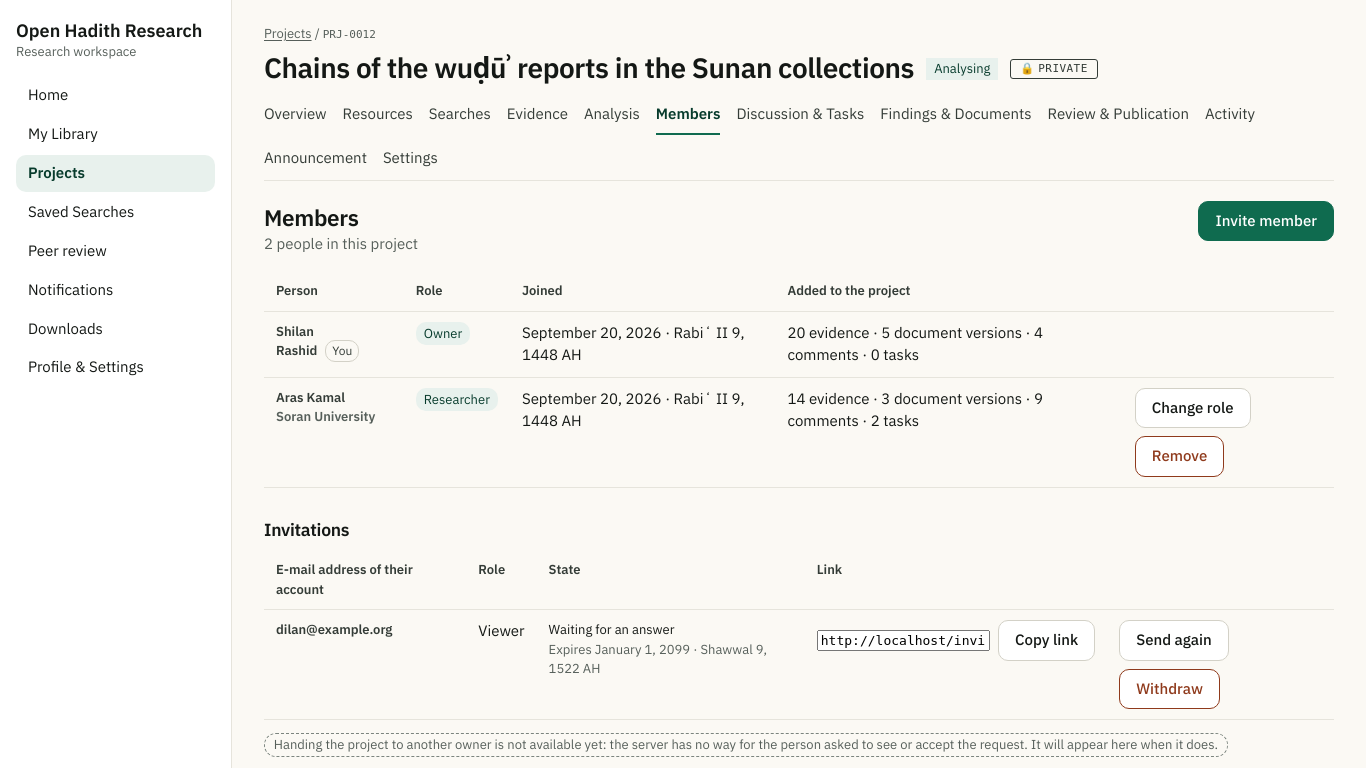
Members: changing and removing › reports a role the server answered 200 for but did not keep
This screenshot has width=1366, height=768.
Step 1. Click the button with aria-label "Change the role of Aras Kamal" → point(1193, 408), box [1135, 388, 1251, 428]
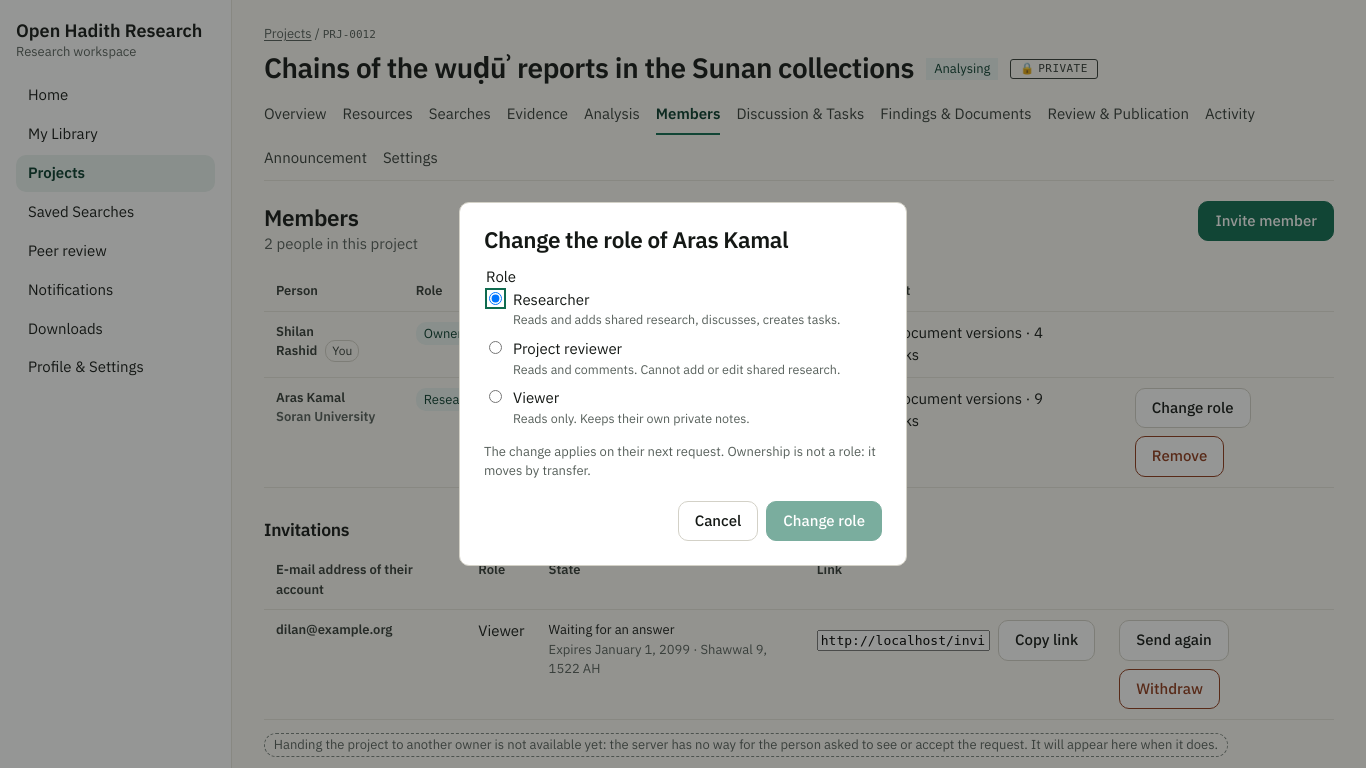
Step 2. Click the radio button labelled "Viewer Reads only. Keeps their own private notes." → point(496, 397), box [489, 390, 502, 403]
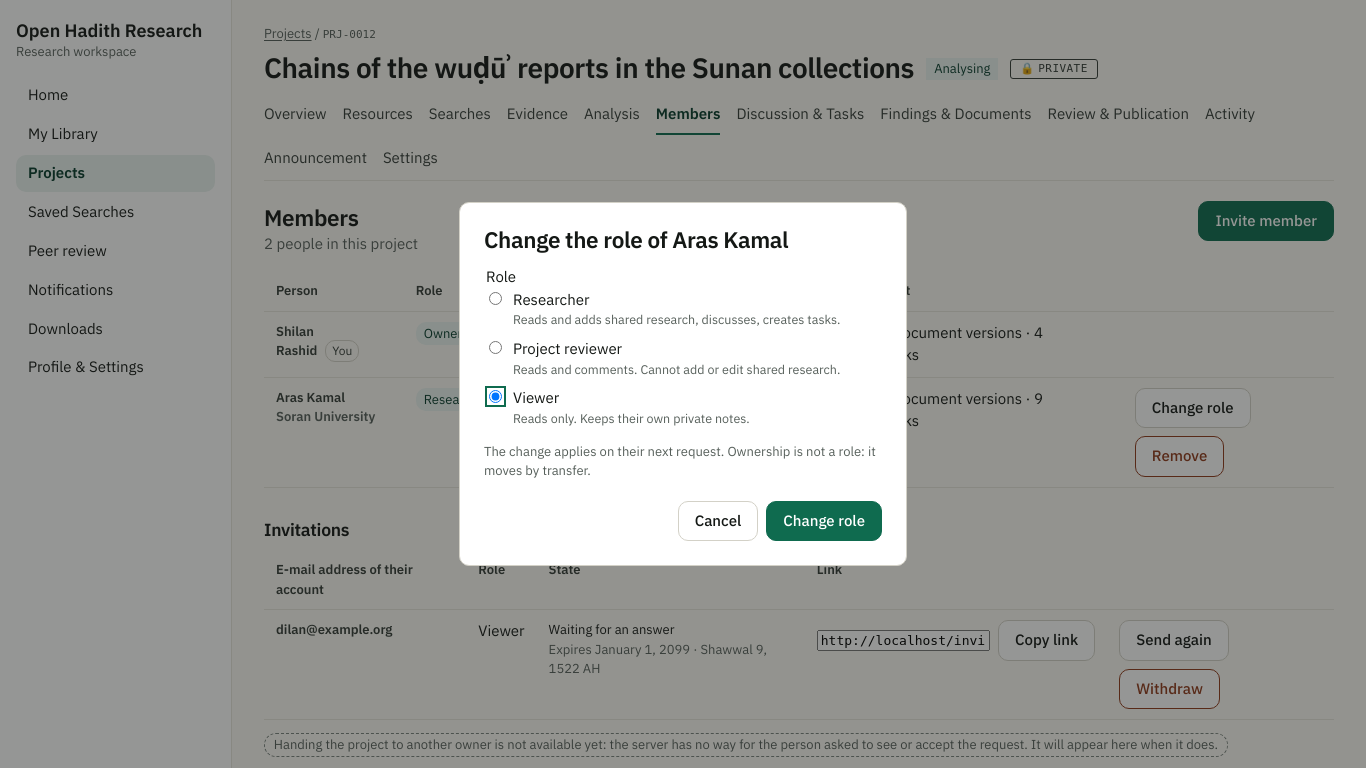
Step 3. Click the button "Change role" → point(824, 521), box [766, 501, 882, 541]
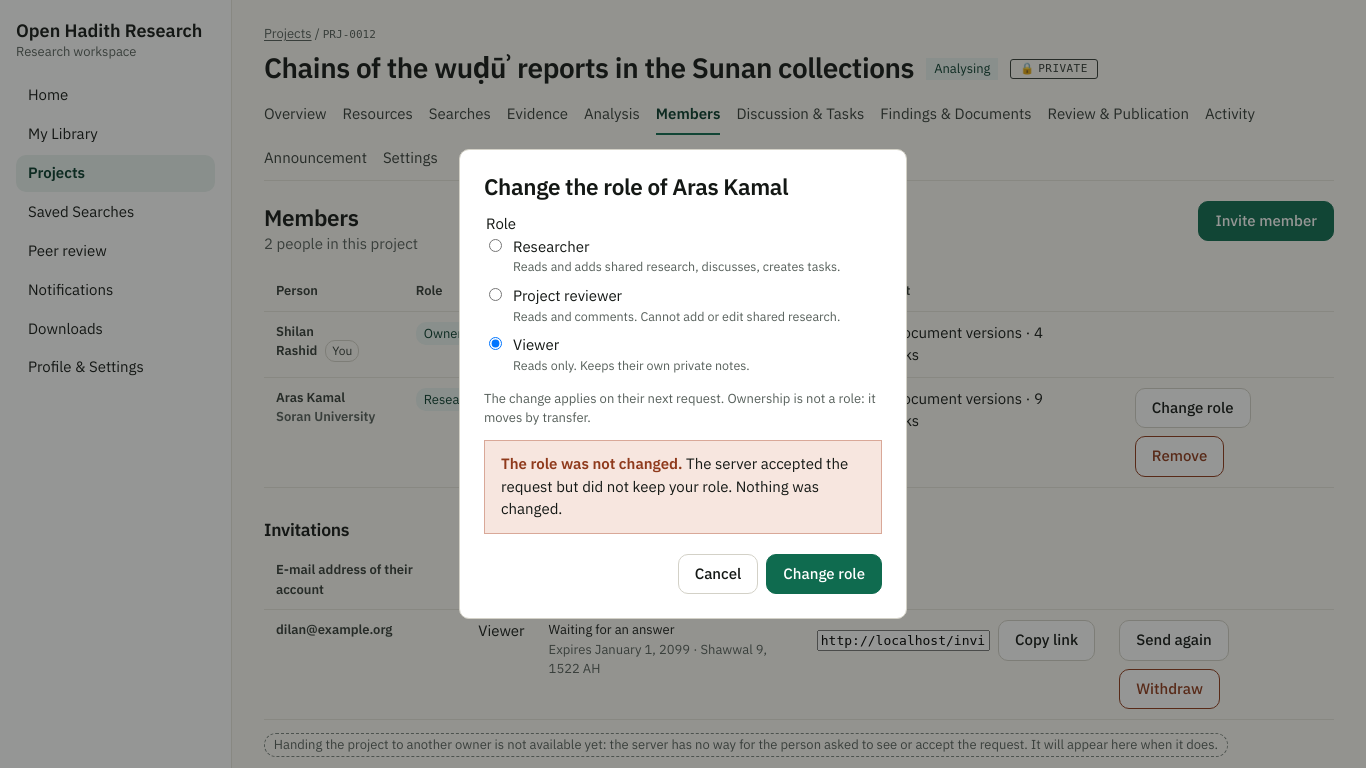
Now the text "did not keep" is shown, box [501, 453, 848, 520]
